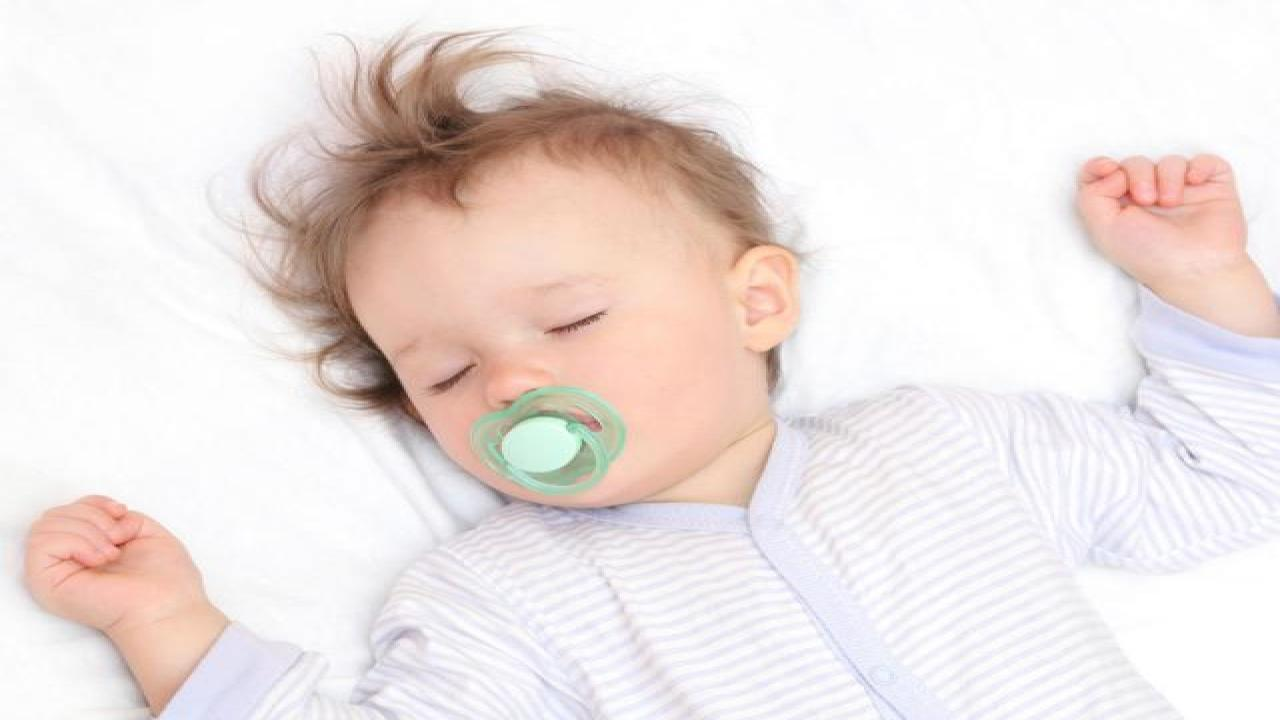hand: (19, 497, 198, 623), (1075, 158, 1254, 274)
